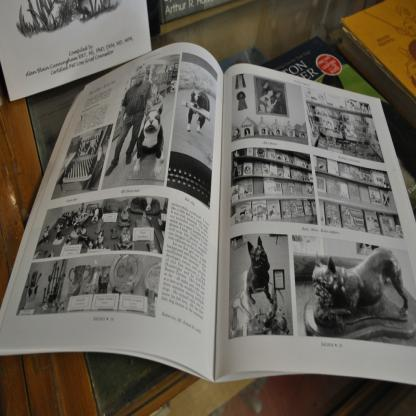book: (0, 41, 416, 384), (339, 0, 416, 103), (159, 0, 232, 26)
